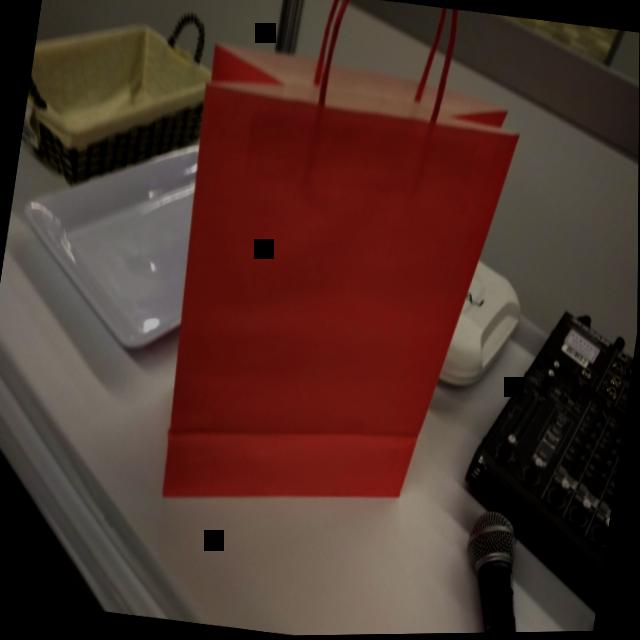basket: (15, 0, 220, 209)
tray: (2, 124, 204, 369)
